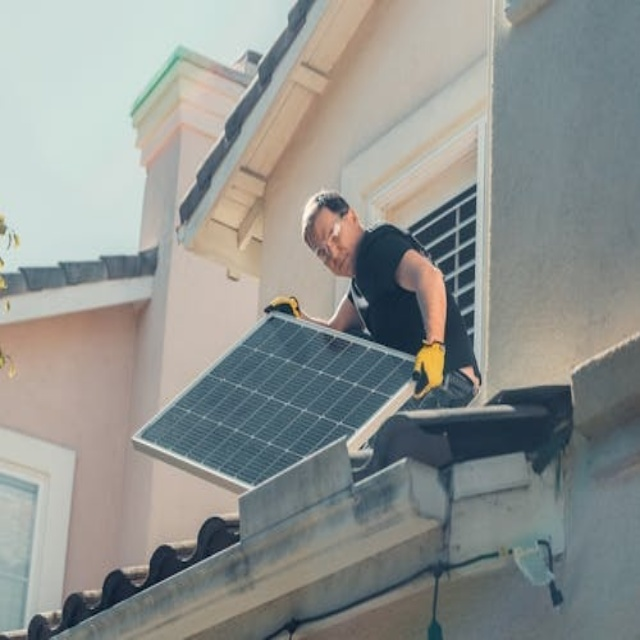Gafas: (313, 211, 343, 261)
Guantes: (411, 339, 446, 398), (265, 296, 302, 319)
